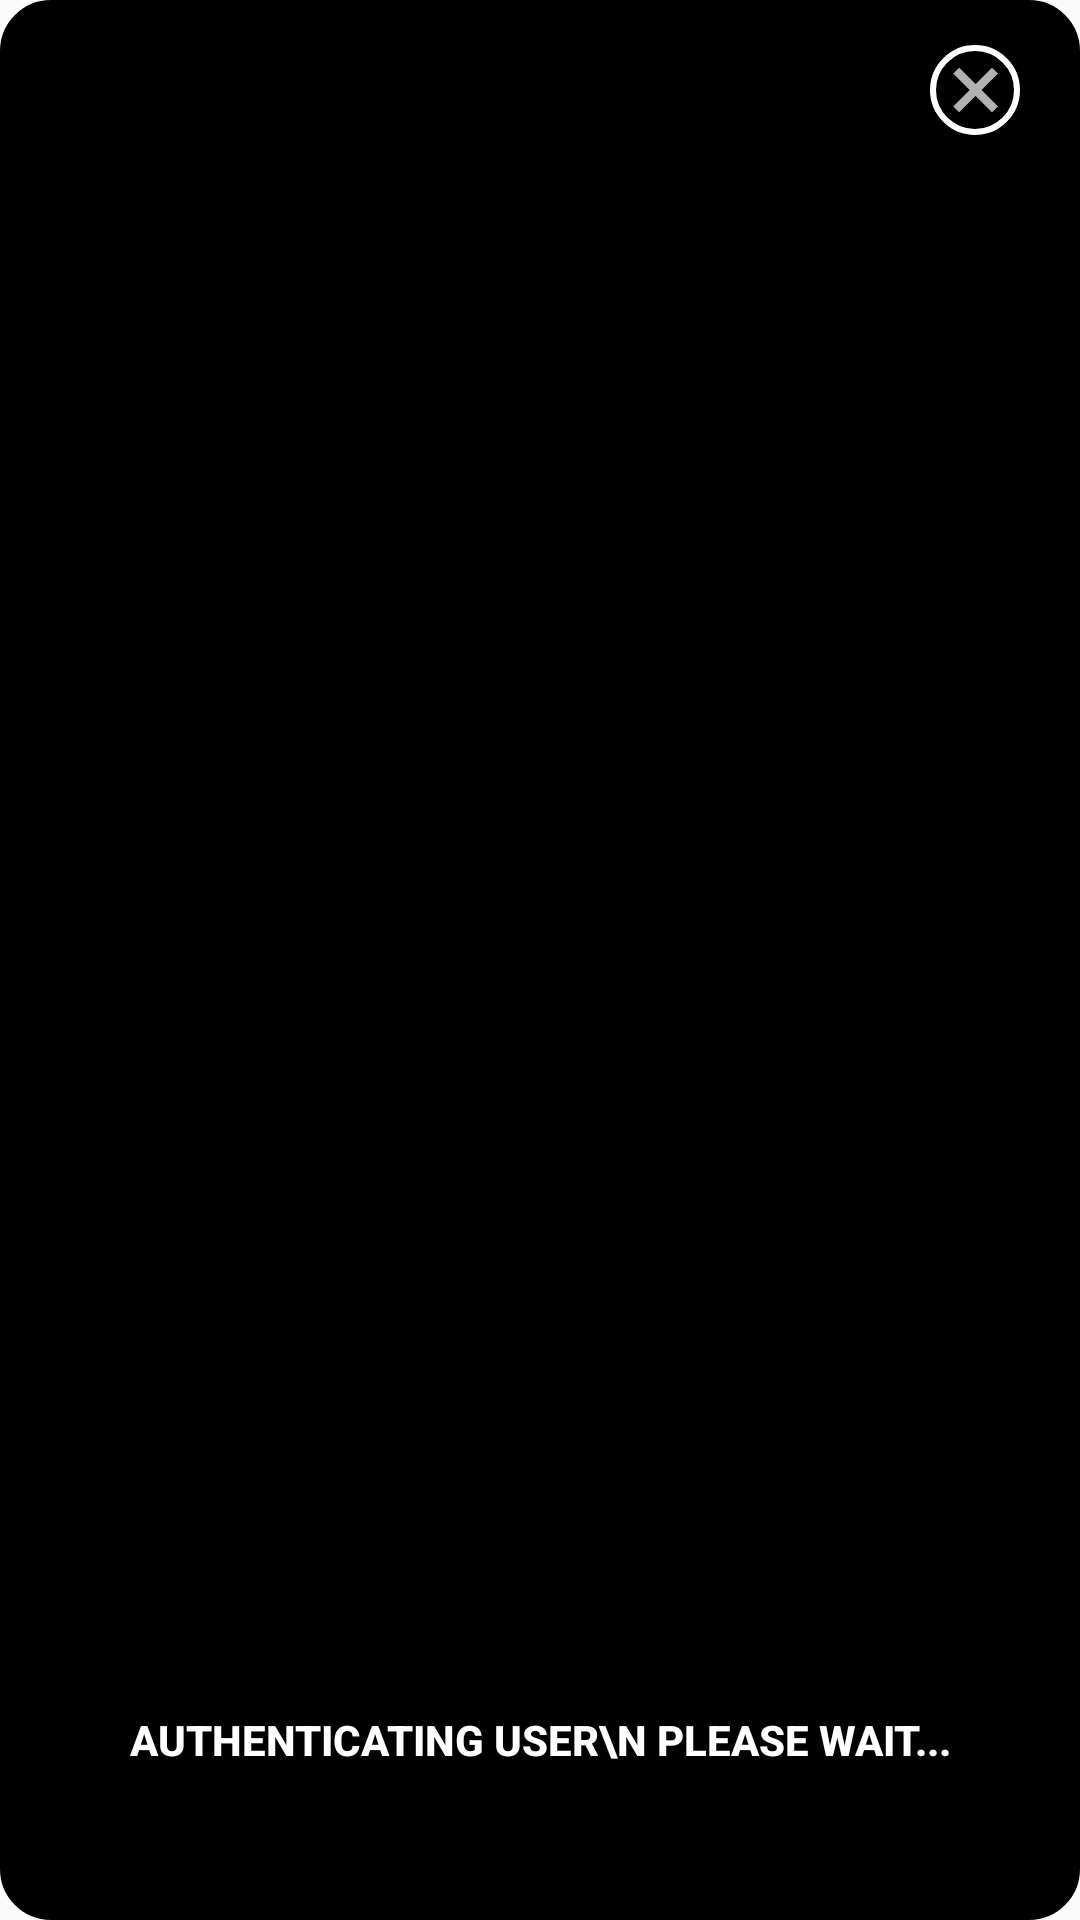

Locate icon controls on the screen. Image size 1080px x 1920px, boxes as (x1, y1, x2, y2).
offer view close: (930, 45, 1020, 135)
